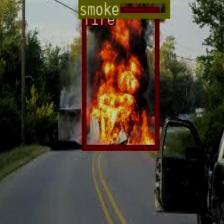fire: (82, 6, 158, 149)
smoke: (78, 0, 168, 16)
